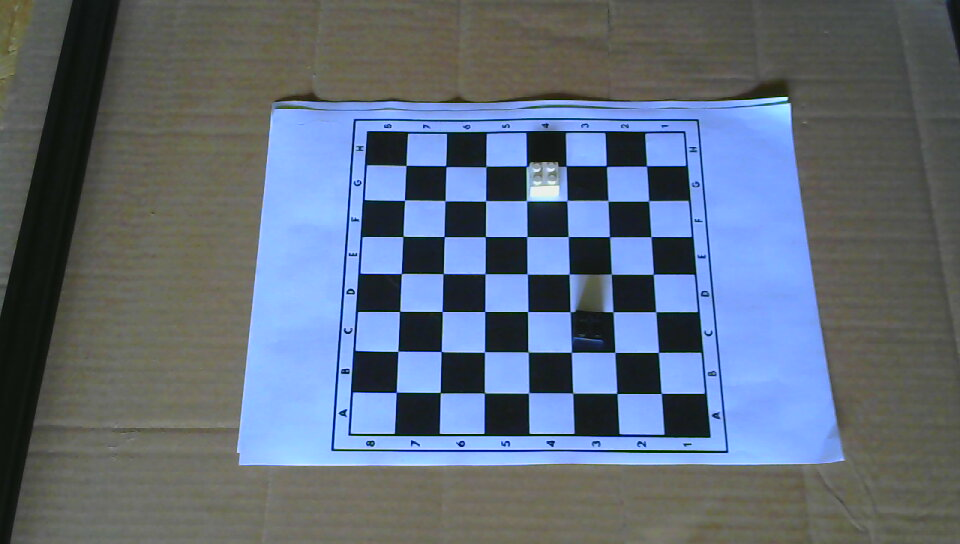bp: (571, 308, 608, 351)
wp: (526, 159, 561, 199)
